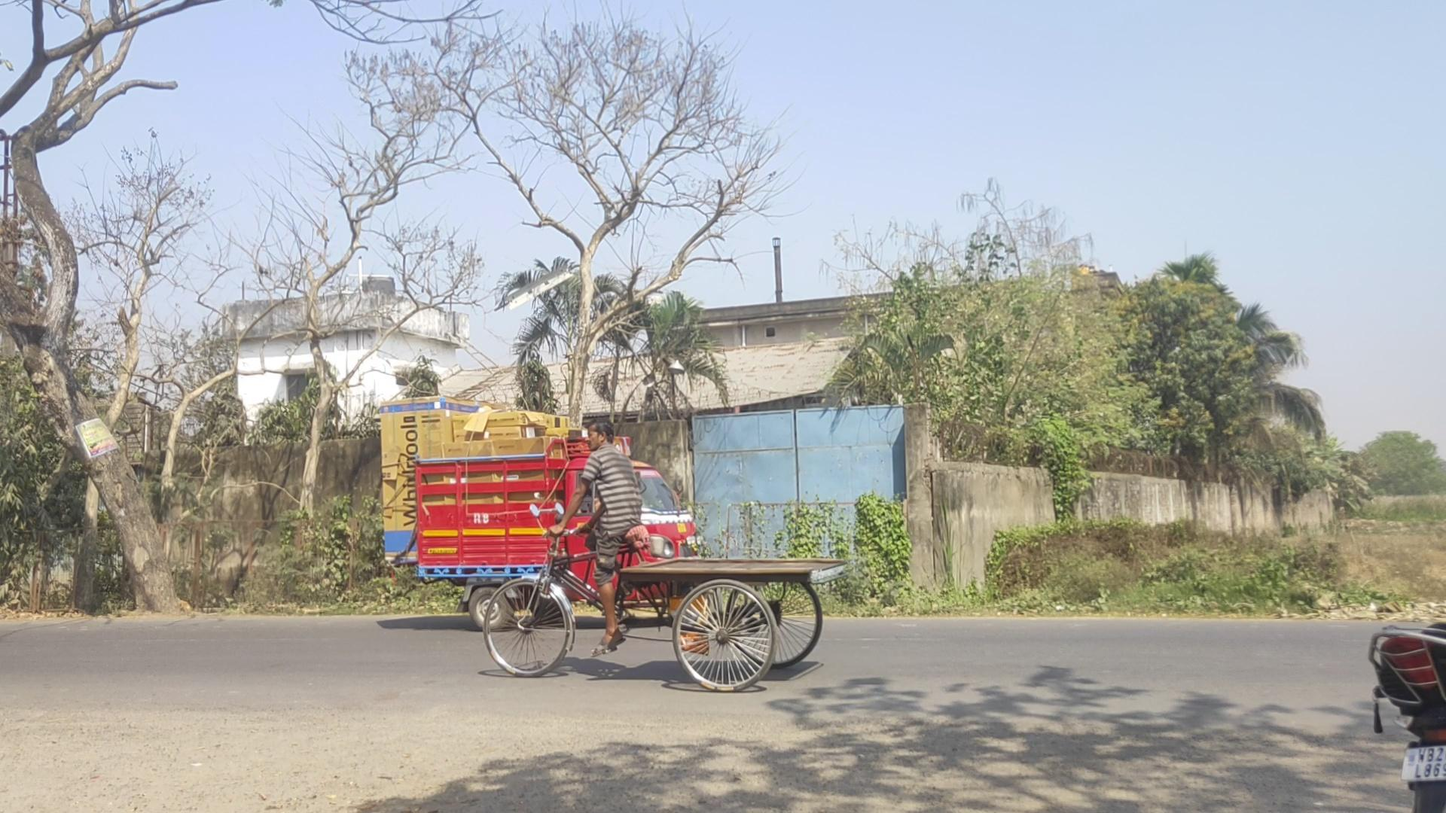van: (379, 397, 710, 632)
